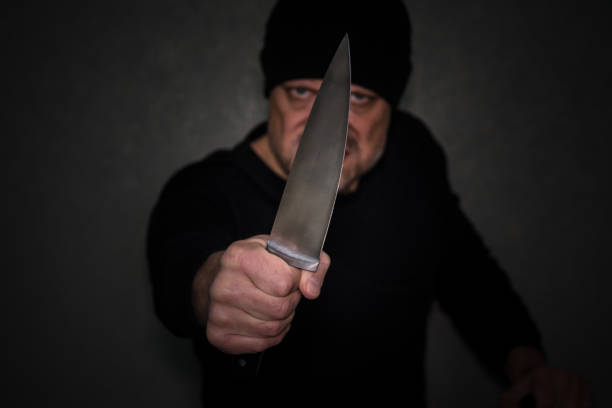knife: (263, 34, 354, 274)
